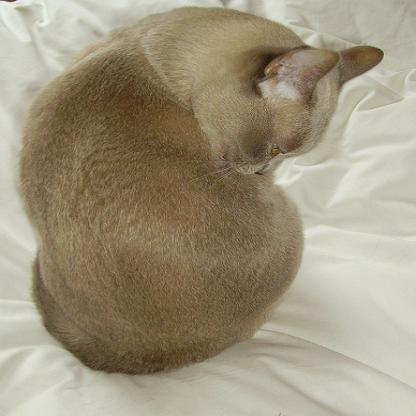cat: (19, 6, 384, 375)
